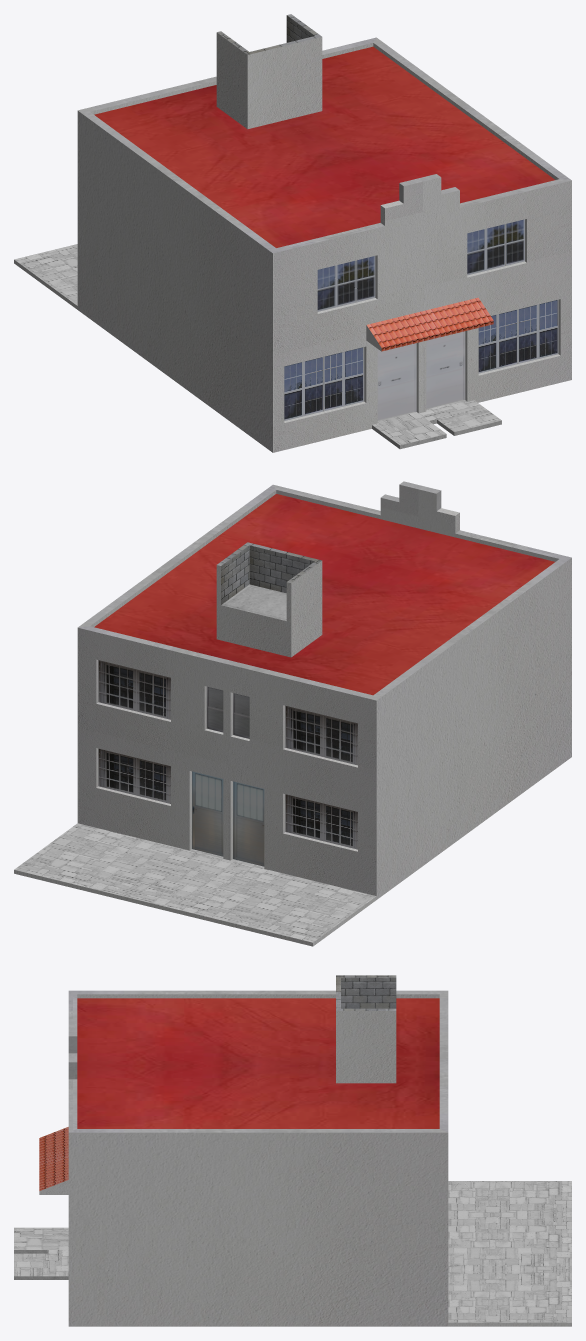
Rendered from lote01.glb.
The picture shows the model from 3 angles, top to bottom: view 1: azimuth 30°, elevation 25°; view 2: azimuth 150°, elevation 25°; view 3: azimuth 270°, elevation 25°; orthographic projection. The views are drawn at different scales.
Visible parts, largest first — view 1: Layer0_001_01 - Default_0; view 2: Layer0_001_01 - Default_0; view 3: Layer0_001_01 - Default_0.
Part boxes in pixels (x1,y1,x2,y2): Layer0_001_01 - Default_0: (14,14,571,452); Layer0_001_01 - Default_0: (14,481,571,946); Layer0_001_01 - Default_0: (14,975,571,1326).
Size of the model in its own units: 8 by 6.9 by 13.3.
1 material, 1 textured.
